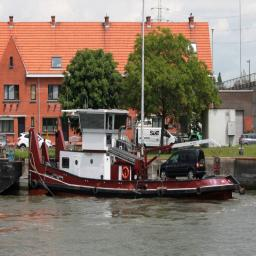tugboat: (27, 106, 248, 208)
